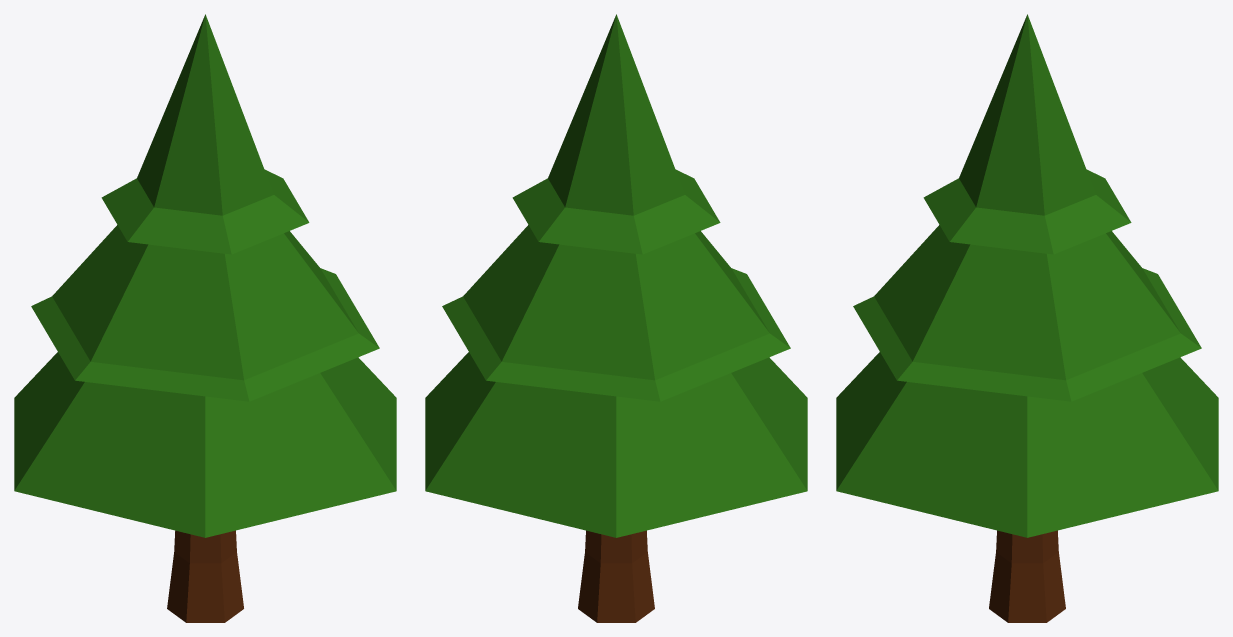
The model's file is tree_2.fbx.
3 views of the same model, side by side, from view 1: azimuth 30°, elevation 25°; view 2: azimuth 150°, elevation 25°; view 3: azimuth 270°, elevation 25° (orthographic).
Visible parts, largest first — view 1: treeface.002, treeface.001, treeface, treetrunk; view 2: treeface.002, treeface.001, treeface, treetrunk; view 3: treeface.002, treeface.001, treeface, treetrunk.
Part boxes in pixels (x1,y1,x2,y2): treeface.002: (14,352,396,537); treeface.001: (31,225,379,401); treeface: (101,14,309,254); treetrunk: (167,530,243,622); treeface.002: (425,352,807,537); treeface.001: (442,225,790,401); treeface: (512,14,720,254); treetrunk: (578,530,654,622); treeface.002: (836,352,1218,537); treeface.001: (853,225,1201,401); treeface: (923,14,1131,254); treetrunk: (989,530,1065,622).
Bounding box in the file's own units: 130 × 194 × 113.
